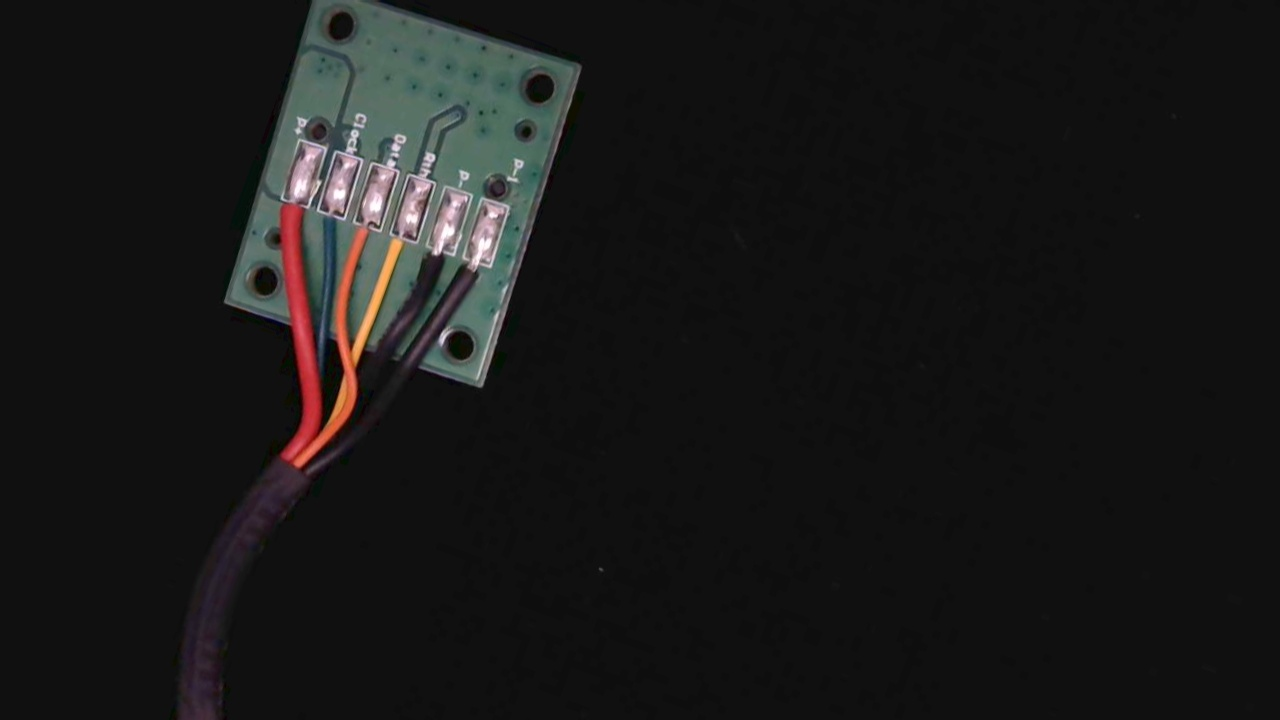Black: (406, 222, 463, 302)
Black1: (444, 236, 498, 310)
Green: (296, 189, 352, 266)
Orange: (334, 198, 389, 277)
Red: (260, 177, 316, 255)
Yellow: (365, 210, 422, 291)
